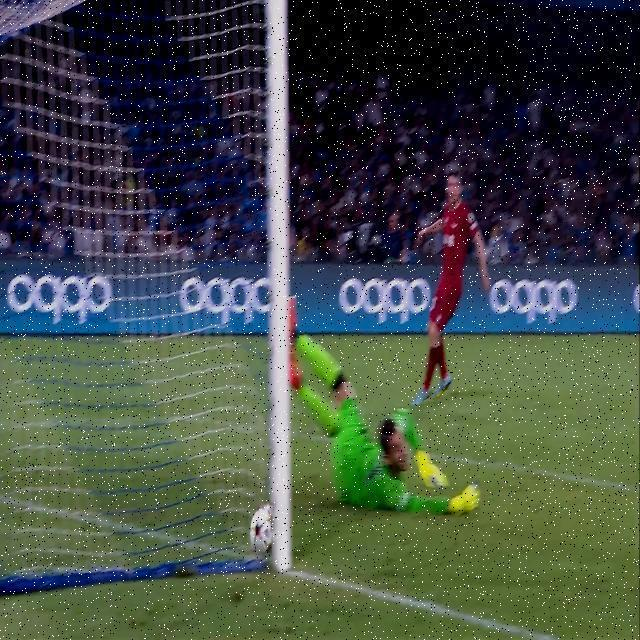ball: (245, 506, 277, 558)
goalkeeper: (281, 308, 492, 533)
player: (416, 162, 490, 411)
